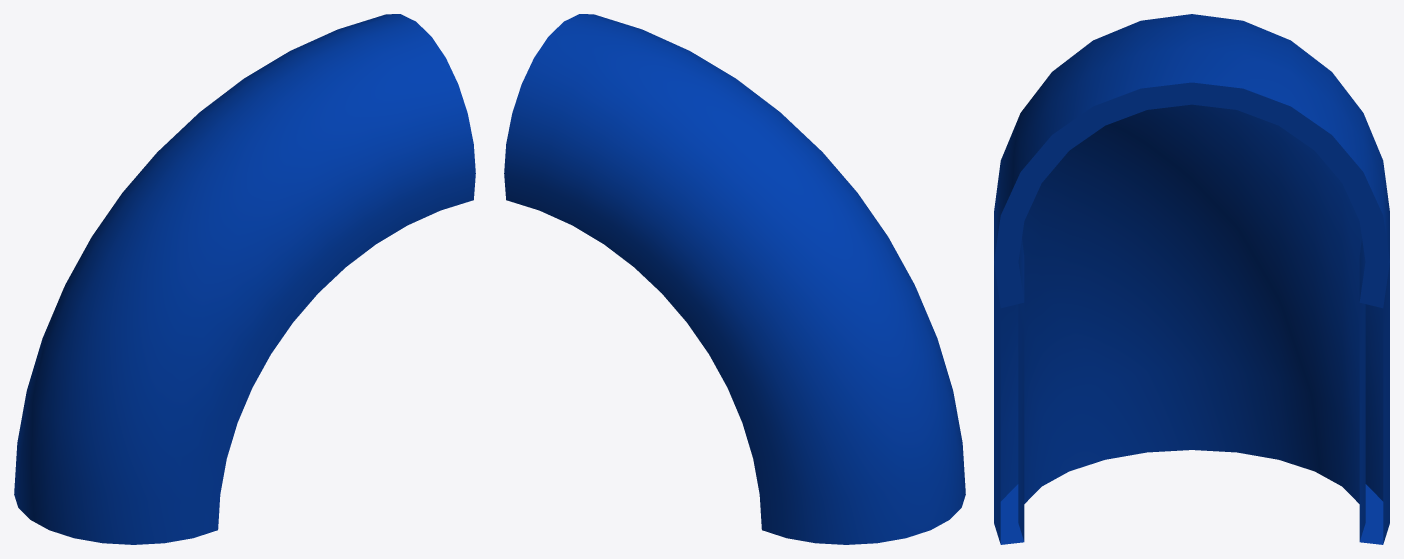
The model's file is SM_tube_90_ouvert.FBX.
3 renders of one model, left to right at view 1: azimuth 30°, elevation 25°; view 2: azimuth 150°, elevation 25°; view 3: azimuth 270°, elevation 25°, orthographic. The views are drawn at different scales.
Visible parts, largest first — view 1: SM_tube_90_ouvert; view 2: SM_tube_90_ouvert; view 3: SM_tube_90_ouvert.
Part boxes in pixels (bbox=[...]): SM_tube_90_ouvert: bbox=[14, 14, 475, 544]; SM_tube_90_ouvert: bbox=[504, 14, 965, 544]; SM_tube_90_ouvert: bbox=[994, 14, 1389, 544].
Size of the model in its own units: 174 by 93.28 by 174.
